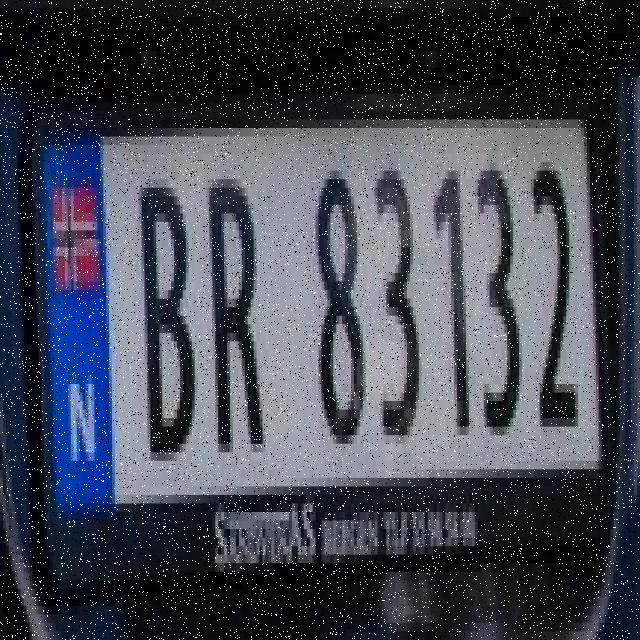licenseplate: (18, 64, 628, 618)
